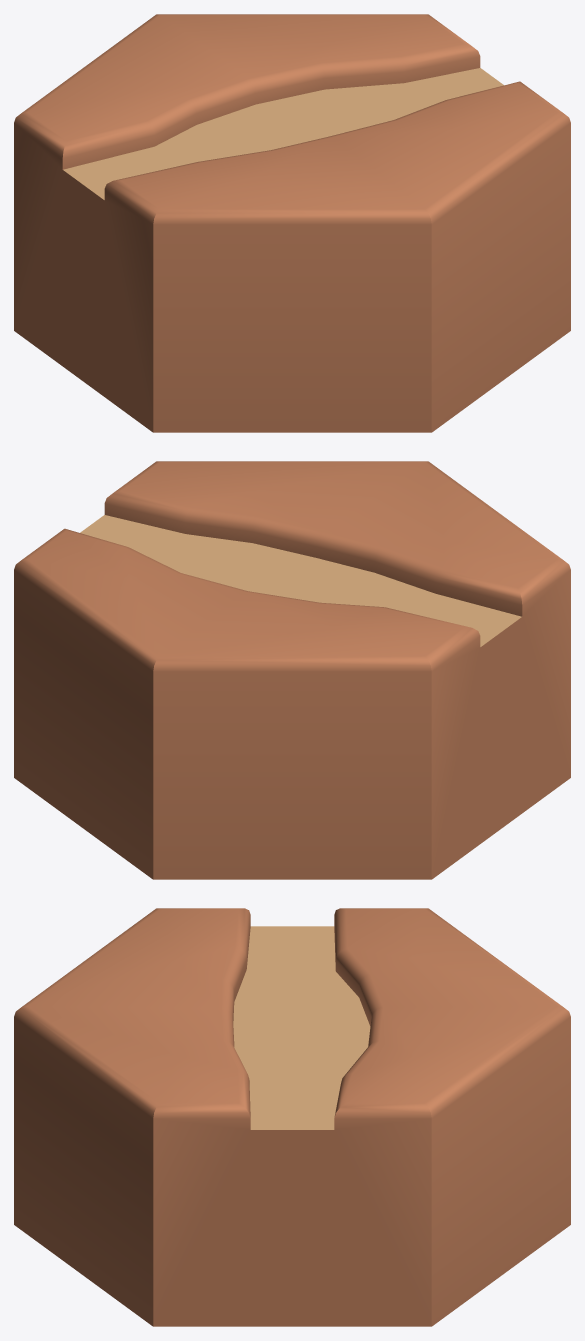
The model's file is hex_rock_roadB.glb.
The picture shows the model from 3 angles, top to bottom: view 1: azimuth 30°, elevation 25°; view 2: azimuth 150°, elevation 25°; view 3: azimuth 270°, elevation 25°; orthographic projection.
Visible parts, largest first — view 1: hex_rock_roadB; view 2: hex_rock_roadB; view 3: hex_rock_roadB.
Part boxes in pixels (x1,y1,x2,y2): hex_rock_roadB: [14, 14, 570, 432]; hex_rock_roadB: [14, 461, 570, 879]; hex_rock_roadB: [14, 908, 570, 1326].
Size of the model in its own units: 2 by 1 by 2.31.
